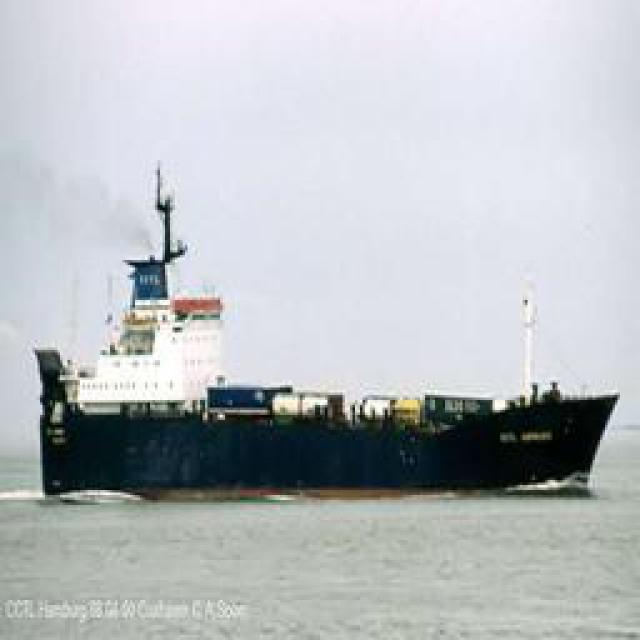Ship: (32, 262, 624, 507)
